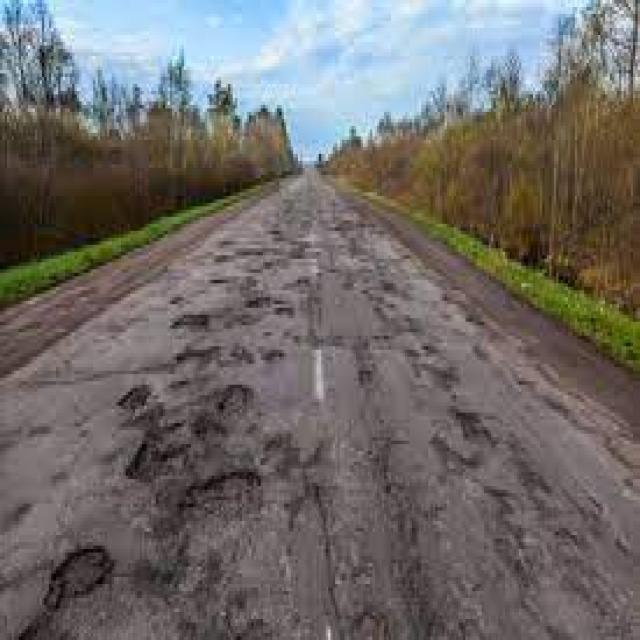Pothole: (116, 385, 258, 577), (47, 546, 114, 612), (170, 311, 216, 374)
